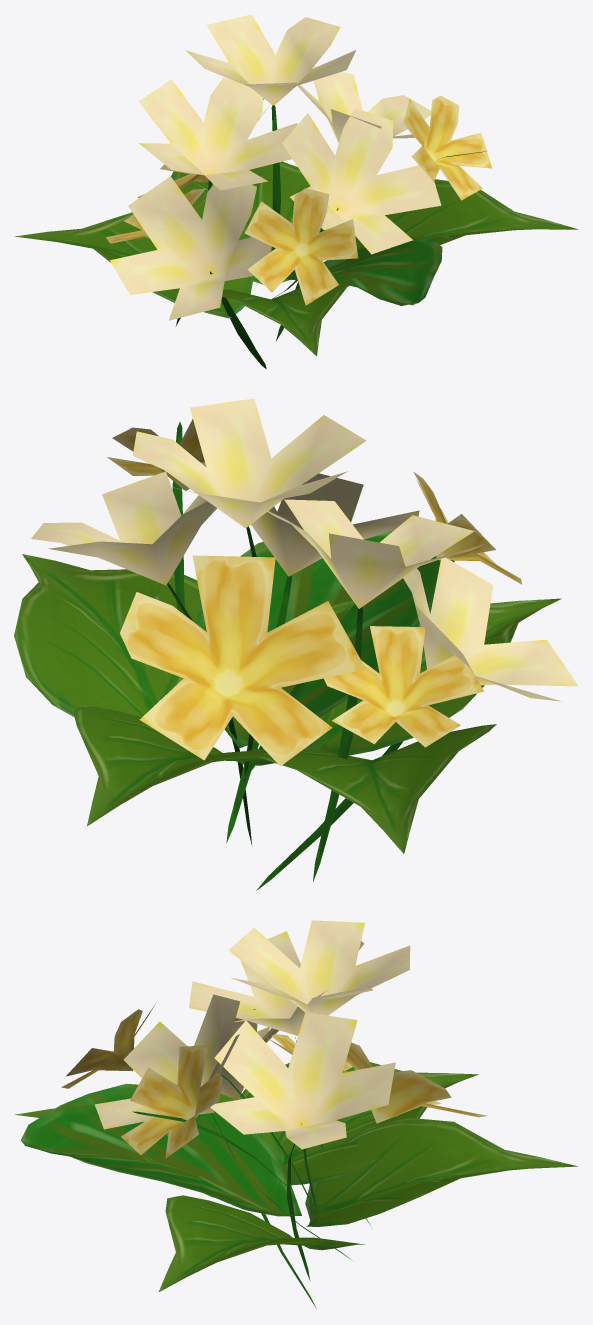
File: Plant.fbx
3 renders of one model, top to bottom at view 1: azimuth 30°, elevation 25°; view 2: azimuth 150°, elevation 25°; view 3: azimuth 270°, elevation 25°, orthographic. The views are drawn at different scales.
Parts seen in each view (by area): view 1: Plant; view 2: Plant; view 3: Plant.
Part boxes in pixels (x1,y1,x2,y2): Plant: [14, 14, 578, 369]; Plant: [14, 398, 578, 890]; Plant: [15, 920, 578, 1308].
Size of the model in its own units: 0.5302 by 0.3835 by 0.5532.
